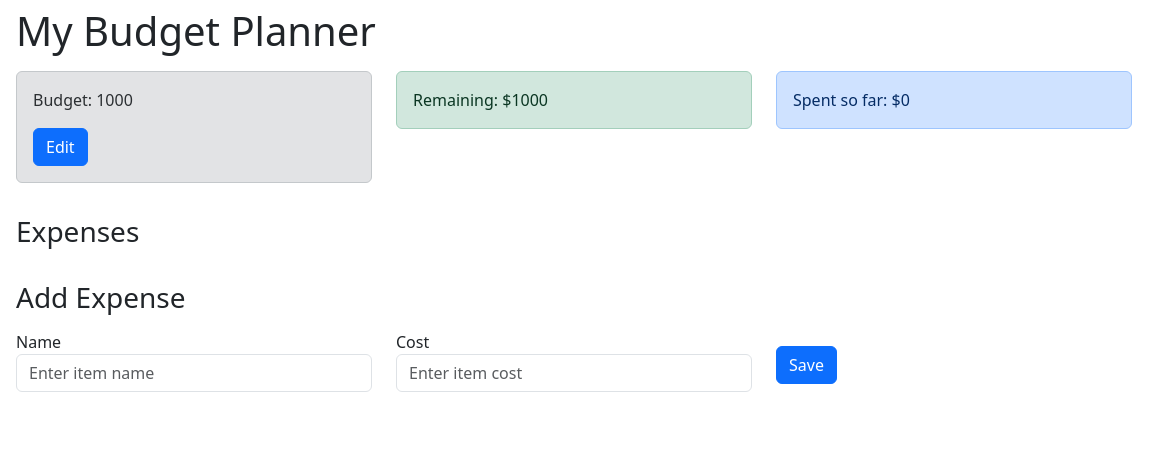
Test: Create an Expense › creates a new expense
Type "Expense 1" into the field with placeholder "Enter item name" at [194, 373], box 16,354 -> 372,392
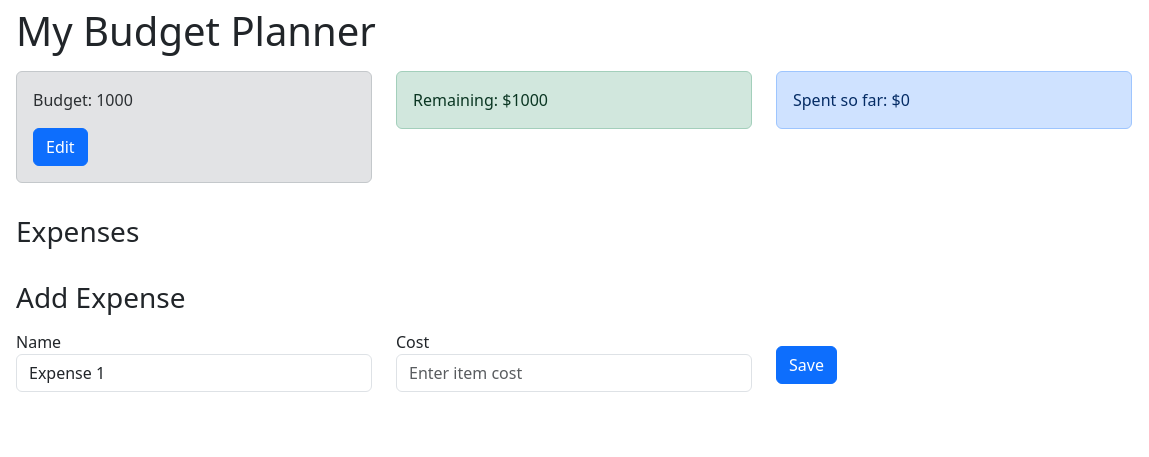
Type "200" into the field with placeholder "Enter item cost" at [574, 373], box 396,354 -> 752,392
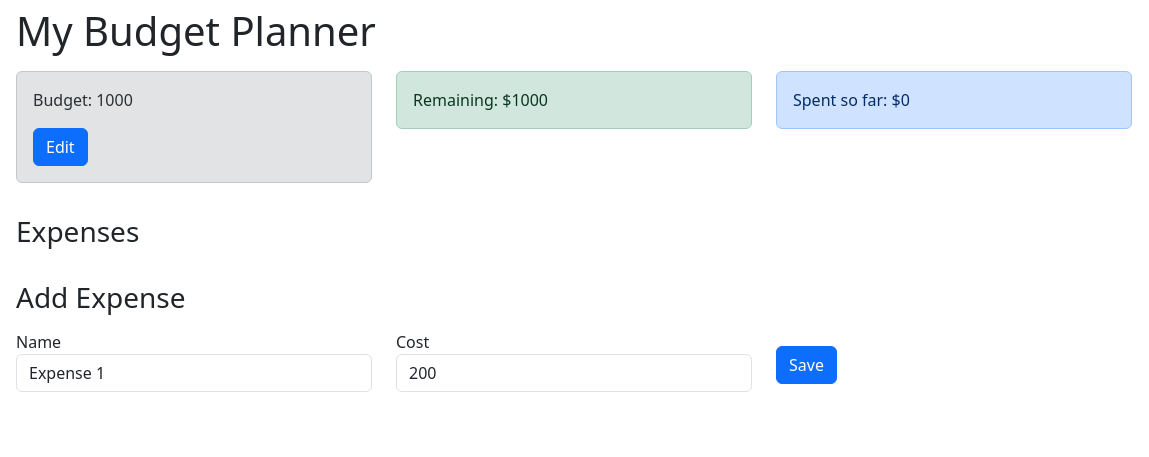
Click the button "Save" at [806, 365], box 776,346 -> 837,384
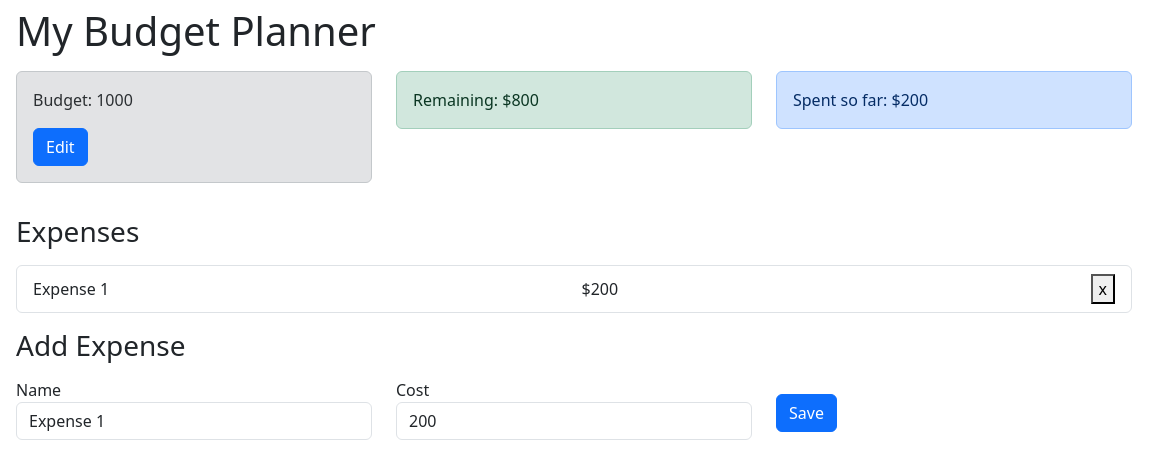
Expected: the text "$200" is shown, 582,277 -> 618,301
Expected: the text "Expense 1" is shown, 33,277 -> 109,301
